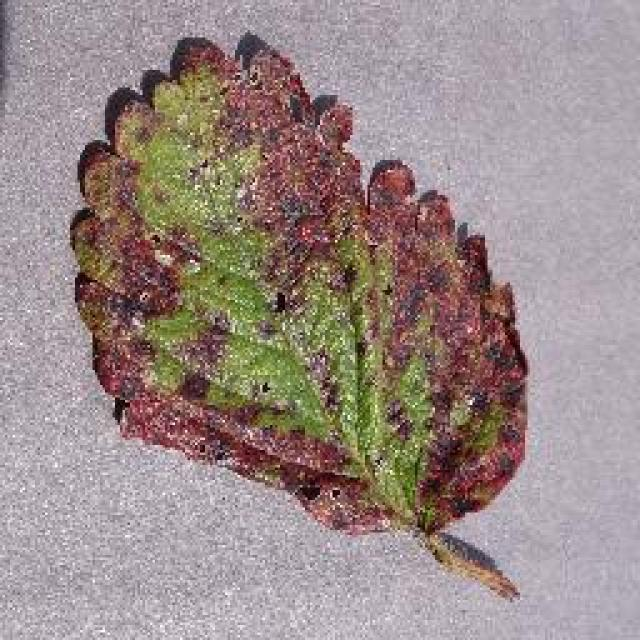Strawberry leaf scorch: (104, 157, 478, 478)
